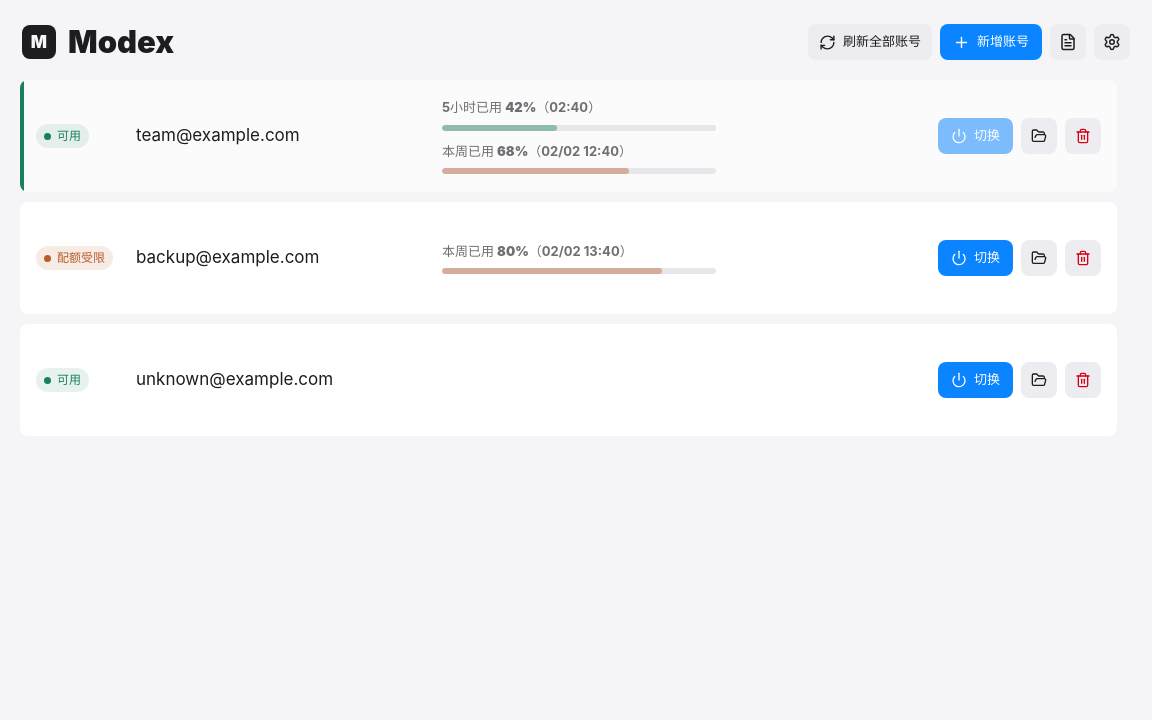
Test: App › routes action failures into the collapsed log panel with an unread dot
What coordinates should you click on to do the following:
click the button with aria-label "切换到 backup@example.com"
I would click on:
 (976, 258)
Its box is left=938, top=240, right=1013, bottom=276.
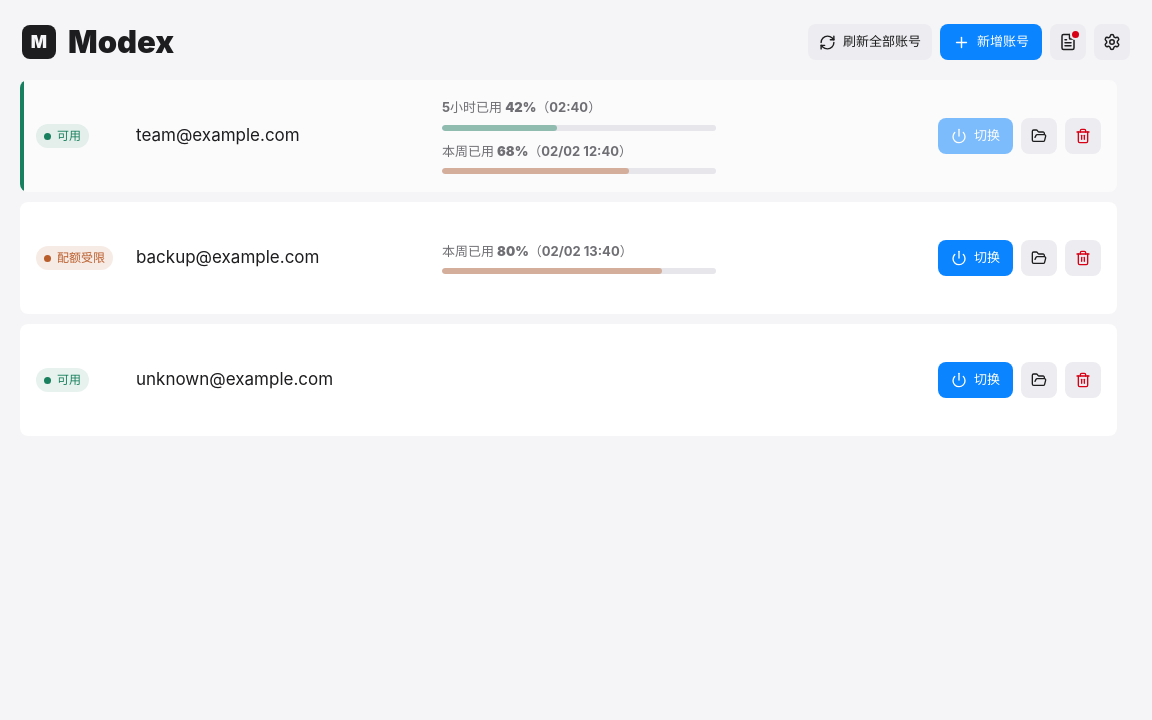
Expected: the text "Codex 未退出，账号切换已取消。" is not shown
Now the element with class "unread-dot" is shown, box left=1072, top=31, right=1079, bottom=38
What coordinates should you click on to do the following:
click the button named "打开日志"
I would click on:
 (1068, 42)
Its box is left=1050, top=24, right=1086, bottom=60.
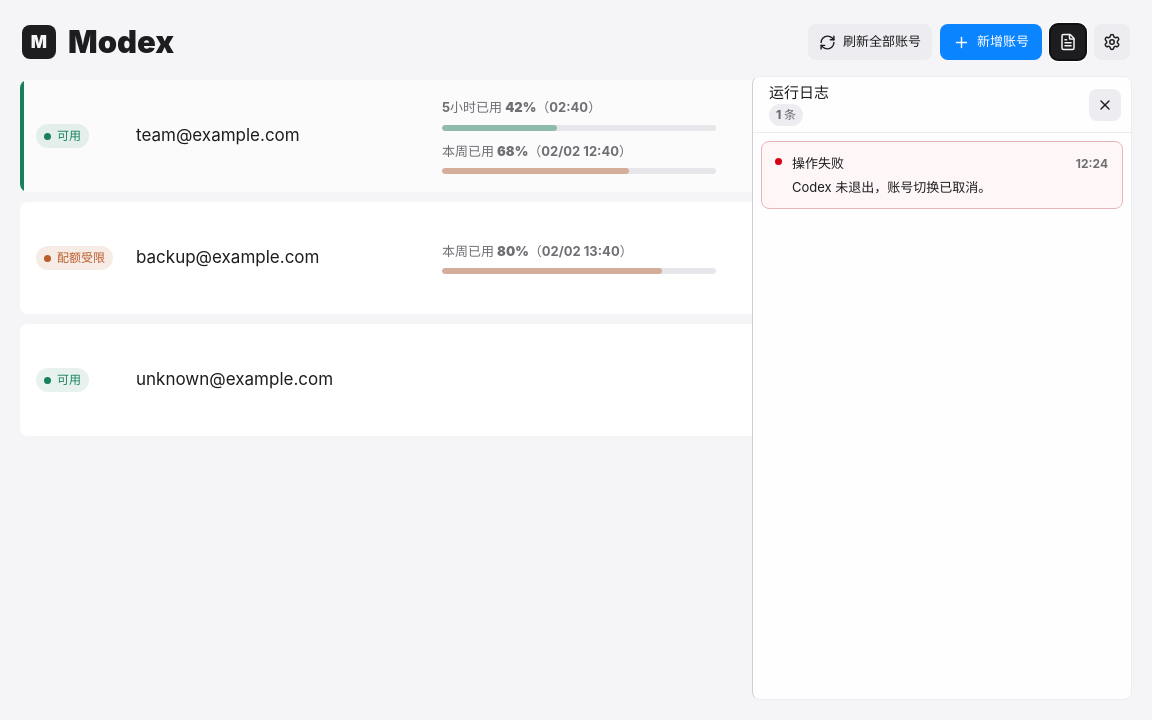
Now the text "操作失败" is shown, box left=792, top=154, right=844, bottom=174
Now the text "Codex 未退出，账号切换已取消。" is shown, box left=792, top=178, right=991, bottom=194
Now the element with class "unread-dot" is gone
